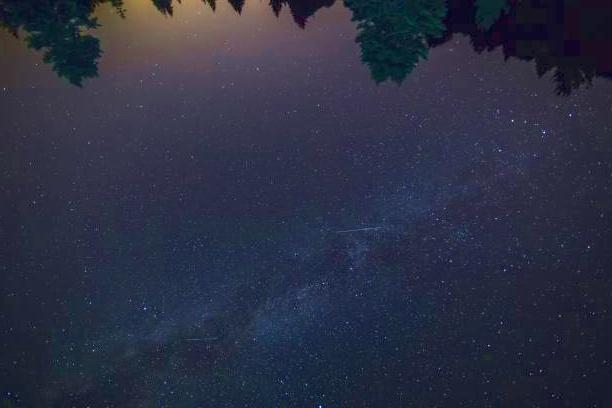meteorite: (173, 331, 223, 347), (329, 223, 390, 236)
